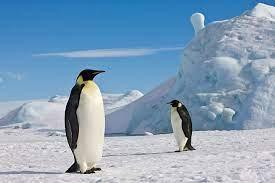emporer: (53, 65, 116, 177), (161, 96, 202, 166)
